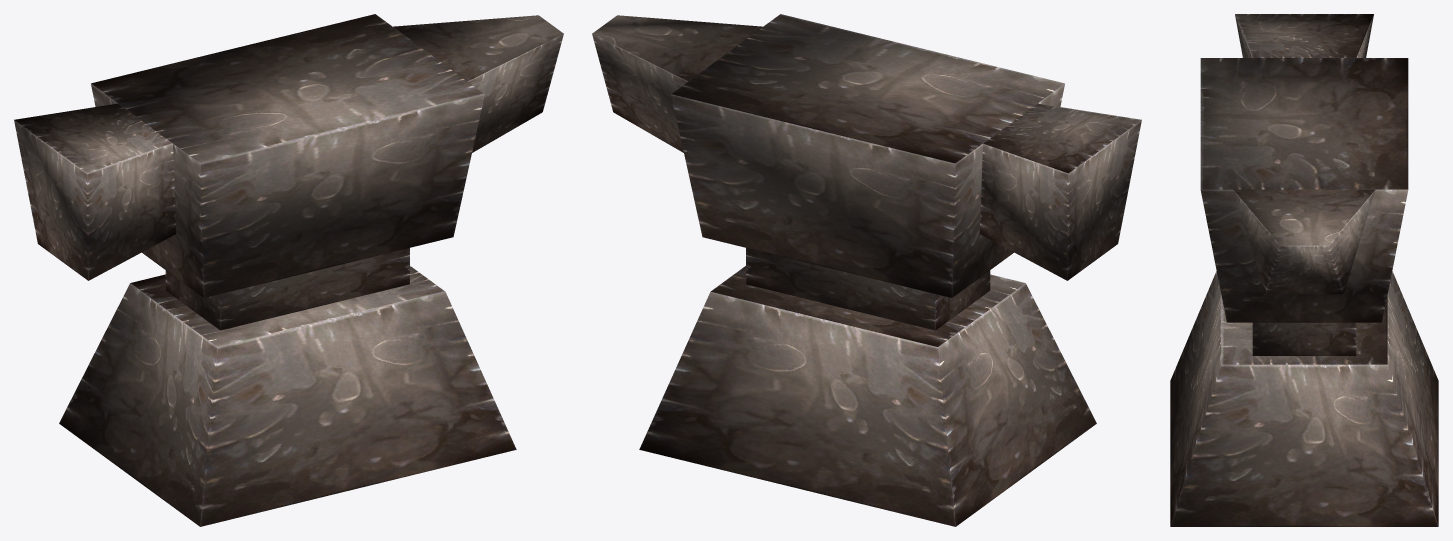
The model's file is anvil.obj.
The picture shows the model from 3 angles, left to right: view 1: azimuth 30°, elevation 25°; view 2: azimuth 150°, elevation 25°; view 3: azimuth 270°, elevation 25°; orthographic projection. The views are drawn at different scales.
Parts seen in each view (by area): view 1: anvil; view 2: anvil; view 3: anvil.
Part boxes in pixels (x1,y1,x2,y2): anvil: (14,14,563,526); anvil: (592,14,1141,526); anvil: (1170,14,1438,526).
Bounding box in the file's own units: 1.46 × 0.9684 × 0.7131.
Materials: 1 (1 with a texture image).
